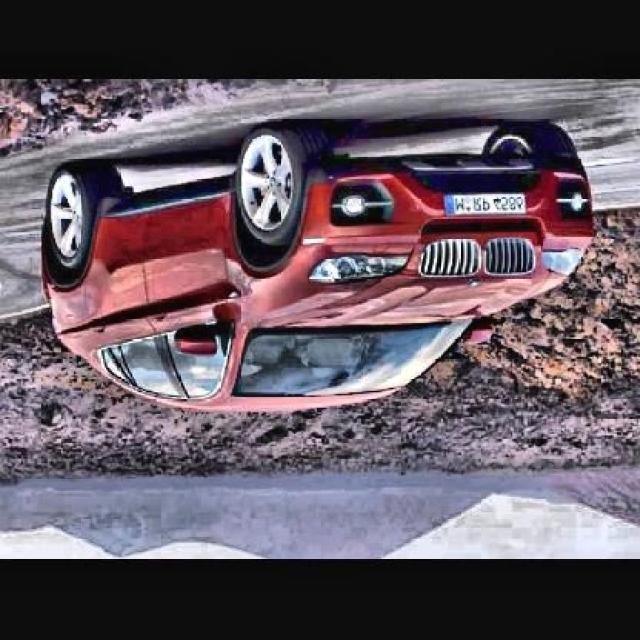red: (44, 102, 584, 410)
